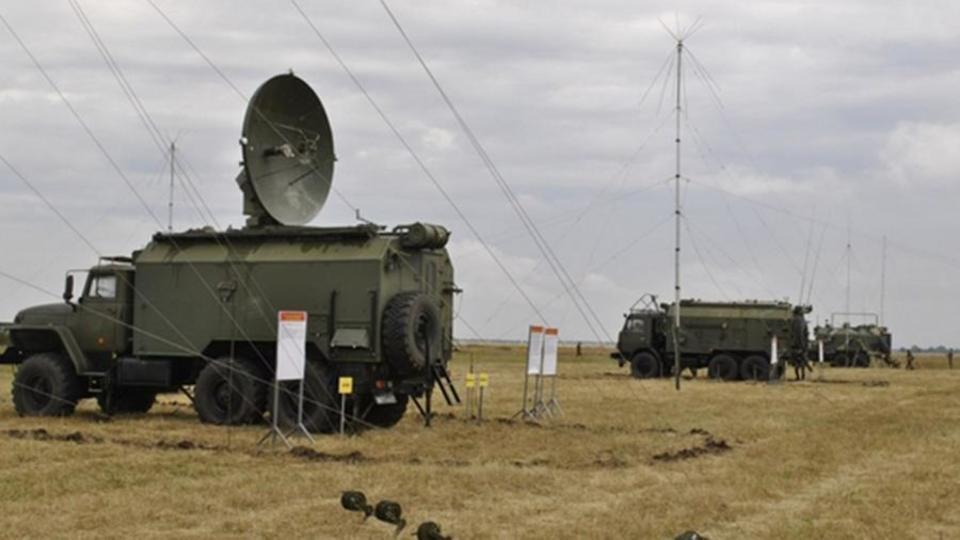person: (904, 343, 918, 373), (944, 346, 957, 373)
truck: (4, 226, 465, 440), (617, 296, 812, 390), (815, 324, 898, 379)
